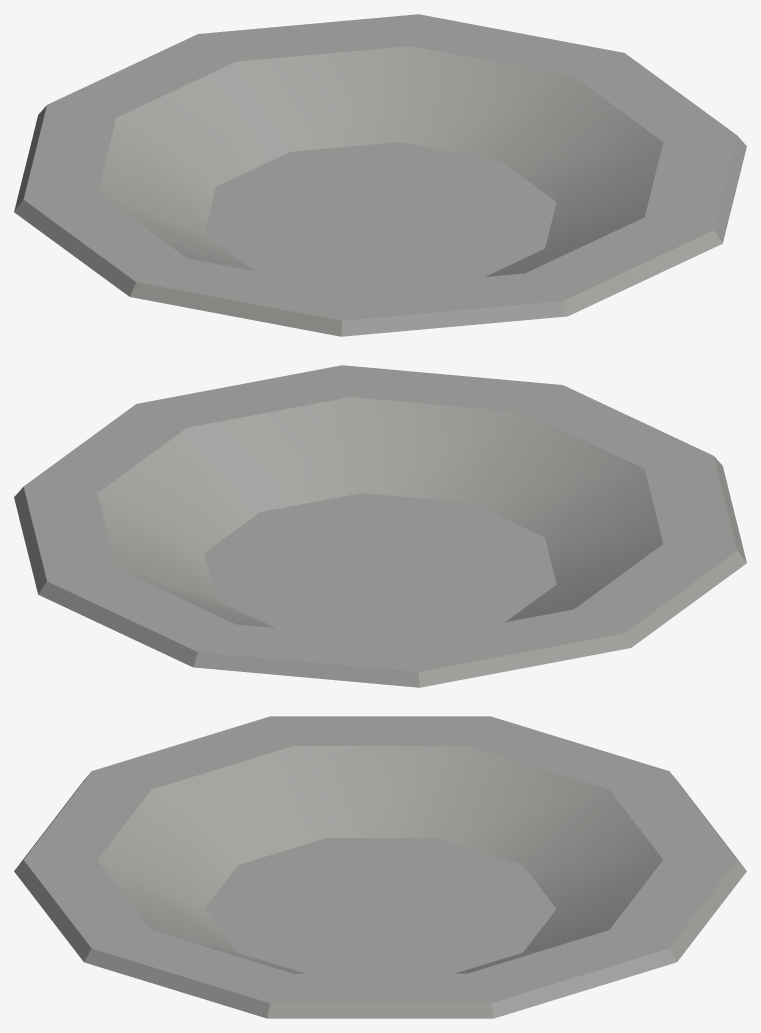
Rendered from Plate_3.glb.
3 renders of one model, top to bottom at view 1: azimuth 30°, elevation 25°; view 2: azimuth 150°, elevation 25°; view 3: azimuth 270°, elevation 25°, orthographic. The views are drawn at different scales.
Parts seen in each view (by area): view 1: Plate_3; view 2: Plate_3; view 3: Plate_3.
Boxes of the visible parts, left/top/right/bottom form: Plate_3: left=14, top=14, right=746, bottom=336; Plate_3: left=14, top=365, right=746, bottom=687; Plate_3: left=14, top=716, right=746, bottom=1018.
Bounding box in the file's own units: 0.1827 × 0.017 × 0.1921.
Materials: 1 (1 with a texture image).
